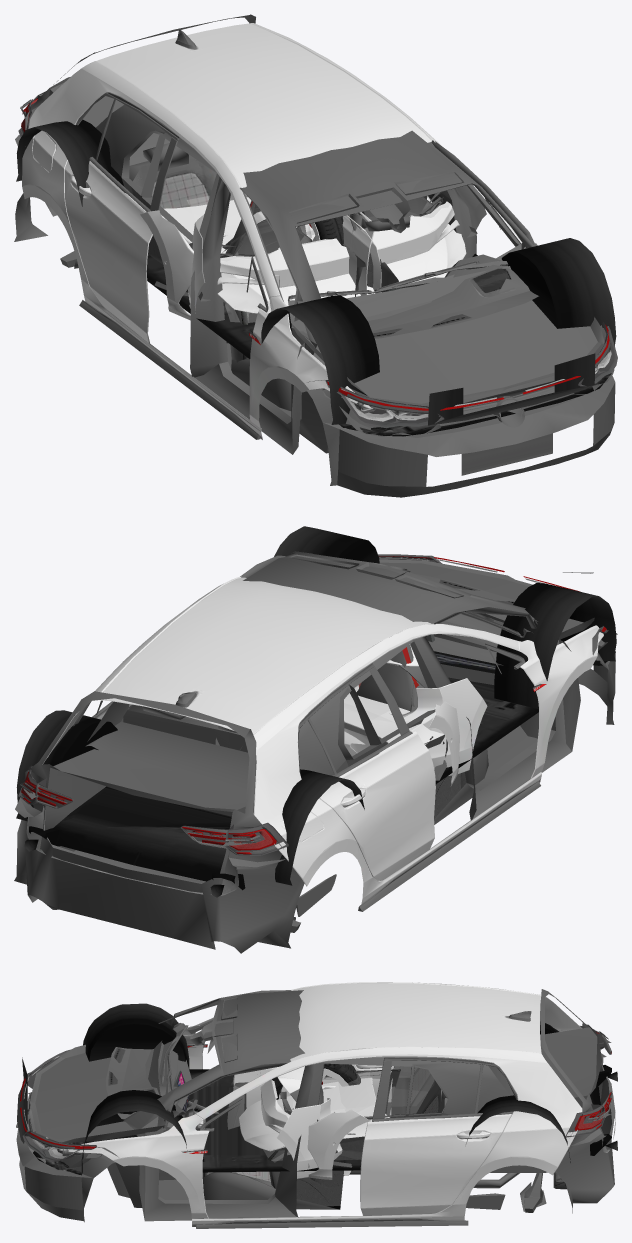
File: car-golf-gti.glb
The picture shows the model from 3 angles, top to bottom: view 1: azimuth 30°, elevation 25°; view 2: azimuth 150°, elevation 25°; view 3: azimuth 270°, elevation 25°; orthographic projection. The views are drawn at different scales.
Visible parts, largest first — view 1: LOD_A_BODY_mm_ext_40, LOD_A_INTERIOR_mm_cab_52, LOD_A_CHASSIS_mm_misc_71, LOD_A_CHASSIS_mm_chassis_65, LOD_A_FRONTBUMPER_mm_ext_41, LOD_A_BODY_mm_misc_34, LOD_A_HOOD_mm_ext_61, LOD_A_CHASSIS_mm_lights_67, LOD_A_REARBUMPER_mm_ext_25, LOD_A_DOOR_RIGHT_mm_ext_14, LOD_A_BODY_mm_lights_32, LOD_A_GLASS_FRONT_mm_windows_13; view 2: LOD_A_BODY_mm_ext_40, LOD_A_INTERIOR_mm_cab_52, LOD_A_CHASSIS_mm_misc_71, LOD_A_CHASSIS_mm_chassis_65, LOD_A_BODY_mm_misc_34, LOD_A_REARBUMPER_mm_ext_25, LOD_A_CHASSIS_mm_lights_67, LOD_A_HOOD_mm_ext_61, LOD_A_FRONTBUMPER_mm_ext_41; view 3: LOD_A_BODY_mm_ext_40, LOD_A_INTERIOR_mm_cab_52, LOD_A_CHASSIS_mm_misc_71, LOD_A_CHASSIS_mm_chassis_65, LOD_A_BODY_mm_misc_34, LOD_A_HOOD_mm_ext_61, LOD_A_FRONTBUMPER_mm_ext_41, LOD_A_CHASSIS_mm_lights_67, LOD_A_REARBUMPER_mm_ext_25, LOD_A_GLASS_LEFT_QUARTER_mm_windows_46, LOD_A_GLASS_RIGHT_QUARTER_mm_windows_44, LOD_A_DOOR_LEFT_mm_ext_57 (+4 smaller).
Boxes of the visible parts, box(x1,y1,x2,y2) form: LOD_A_BODY_mm_ext_40: box(15, 23, 614, 439); LOD_A_INTERIOR_mm_cab_52: box(96, 102, 538, 454); LOD_A_CHASSIS_mm_misc_71: box(14, 14, 615, 497); LOD_A_CHASSIS_mm_chassis_65: box(16, 119, 616, 436); LOD_A_FRONTBUMPER_mm_ext_41: box(140, 201, 459, 320); LOD_A_BODY_mm_misc_34: box(23, 29, 554, 439); LOD_A_HOOD_mm_ext_61: box(161, 196, 466, 313); LOD_A_CHASSIS_mm_lights_67: box(18, 91, 617, 428); LOD_A_REARBUMPER_mm_ext_25: box(188, 185, 486, 313); LOD_A_DOOR_RIGHT_mm_ext_14: box(342, 212, 374, 295); LOD_A_BODY_mm_lights_32: box(20, 99, 611, 421); LOD_A_GLASS_FRONT_mm_windows_13: box(187, 194, 256, 322); LOD_A_BODY_mm_ext_40: box(15, 576, 607, 903); LOD_A_INTERIOR_mm_cab_52: box(85, 551, 580, 824); LOD_A_CHASSIS_mm_misc_71: box(14, 559, 615, 953); LOD_A_CHASSIS_mm_chassis_65: box(16, 526, 616, 897); LOD_A_BODY_mm_misc_34: box(23, 643, 546, 911); LOD_A_REARBUMPER_mm_ext_25: box(344, 678, 487, 775); LOD_A_CHASSIS_mm_lights_67: box(18, 554, 617, 855); LOD_A_HOOD_mm_ext_61: box(344, 686, 443, 744); LOD_A_FRONTBUMPER_mm_ext_41: box(429, 701, 459, 786); LOD_A_BODY_mm_ext_40: box(16, 982, 615, 1226); LOD_A_INTERIOR_mm_cab_52: box(105, 990, 514, 1221); LOD_A_CHASSIS_mm_misc_71: box(16, 989, 615, 1222); LOD_A_CHASSIS_mm_chassis_65: box(17, 1003, 617, 1175); LOD_A_BODY_mm_misc_34: box(27, 1011, 611, 1228); LOD_A_HOOD_mm_ext_61: box(239, 1077, 389, 1151); LOD_A_FRONTBUMPER_mm_ext_41: box(260, 1079, 370, 1179); LOD_A_CHASSIS_mm_lights_67: box(20, 1026, 611, 1161); LOD_A_REARBUMPER_mm_ext_25: box(277, 1098, 342, 1178); LOD_A_GLASS_LEFT_QUARTER_mm_windows_46: box(187, 1066, 433, 1114); LOD_A_GLASS_RIGHT_QUARTER_mm_windows_44: box(187, 1070, 434, 1109); LOD_A_DOOR_LEFT_mm_ext_57: box(233, 1064, 393, 1115).
Size of the model in its own units: 58300 by 41185 by 136874.
10 materials, 8 textured.
